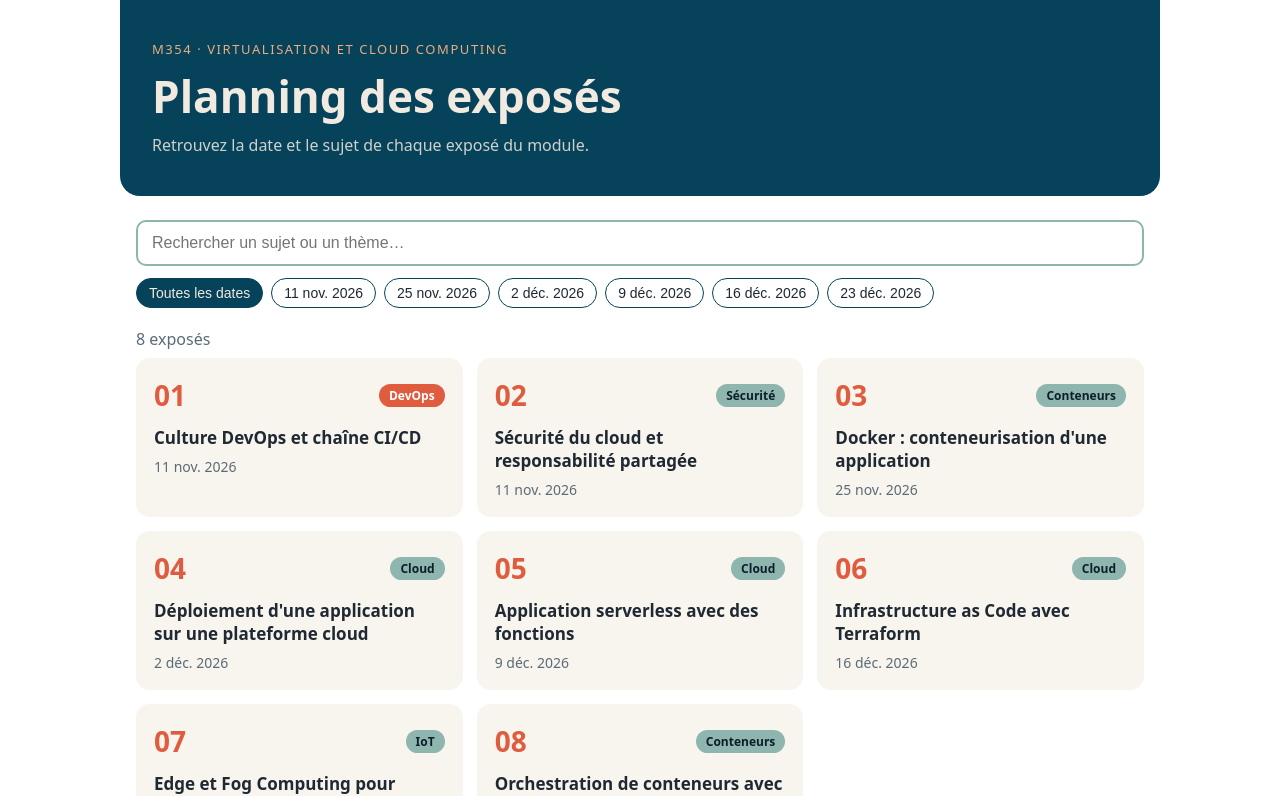
App › recherche par texte et affiche un message si rien ne correspond
The width and height of the screenshot is (1280, 796).
Step 1. Type "terraform" into the search field labelled "Rechercher" → (640, 243), box [136,220,1144,266]
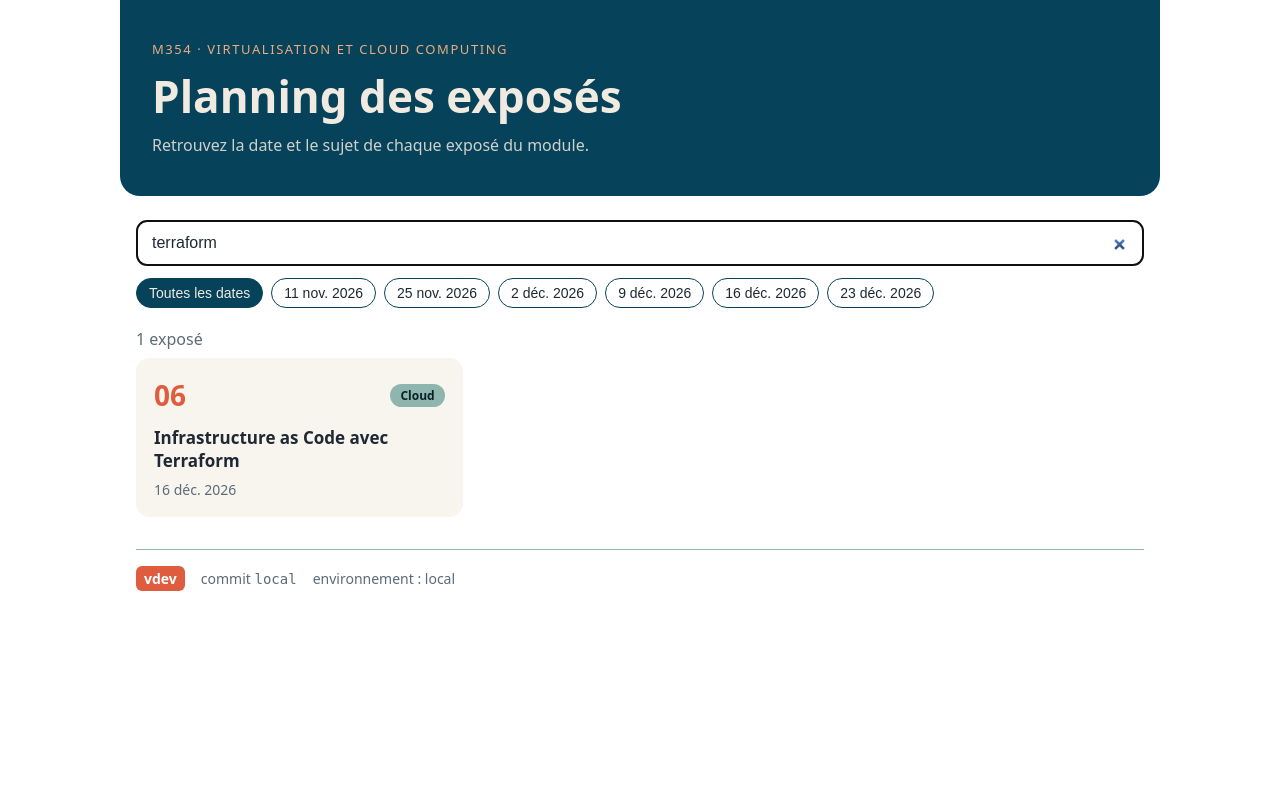
Result: the number of list items with test id "expose" is 1 at [136,358,463,517]
Result: the message reads "1 exposé" at [136,328,203,350]
Step 2. Type "zzz" into the search field named "Rechercher" → (640, 243), box [136,220,1144,266]
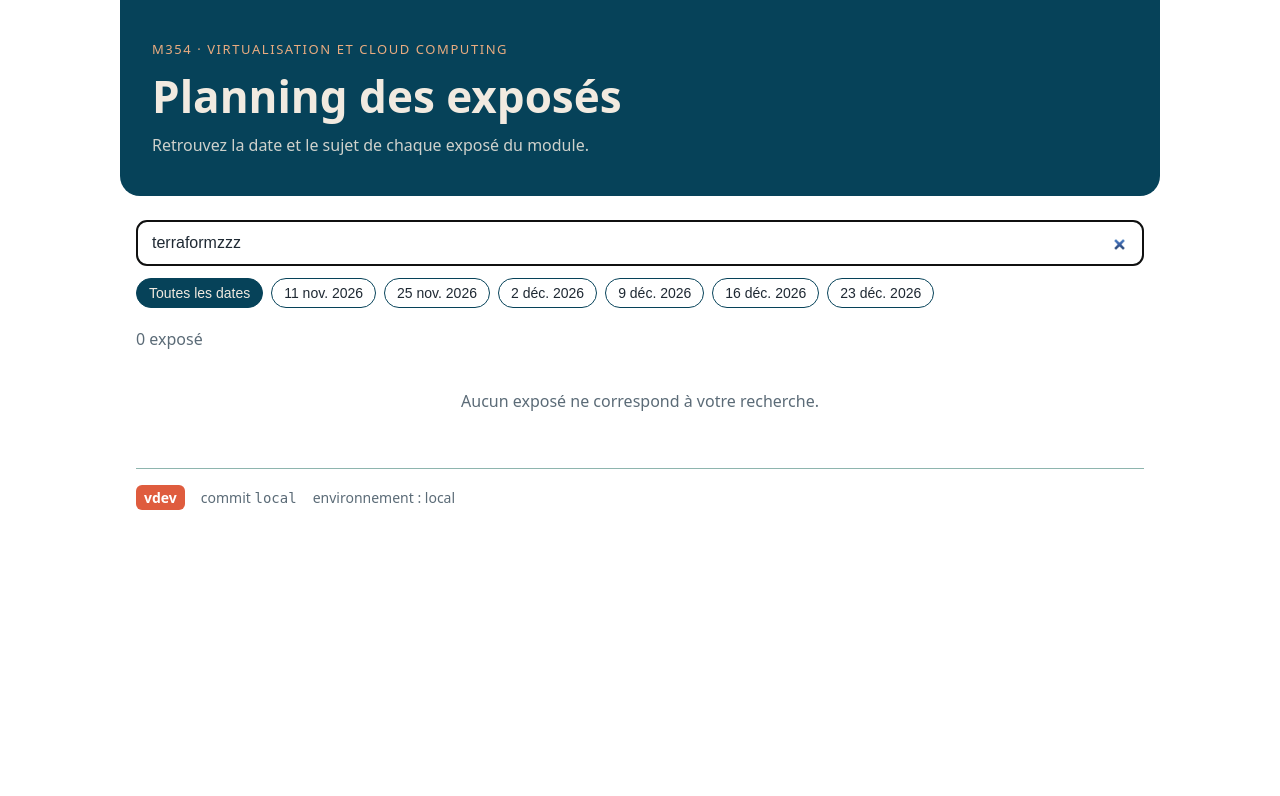
Result: the text "Aucun exposé ne correspond à votre recherche." is shown at [461,390,819,412]
